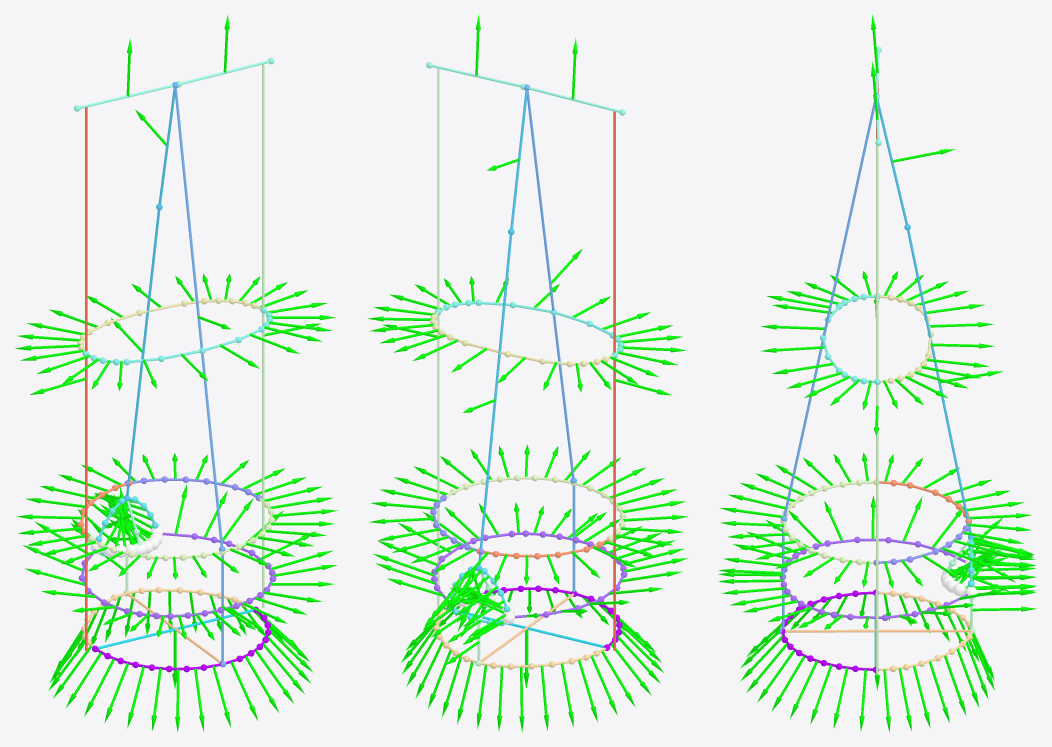
The model's file is t2f_toothpaste.gltf.
The picture shows the model from 3 angles, left to right: view 1: azimuth 30°, elevation 25°; view 2: azimuth 150°, elevation 25°; view 3: azimuth 270°, elevation 25°; orthographic projection.
Bounding box in the file's own units: 0.5055 × 1.1 × 0.486.
